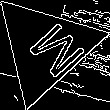M_SW: (10, 14, 80, 82)
